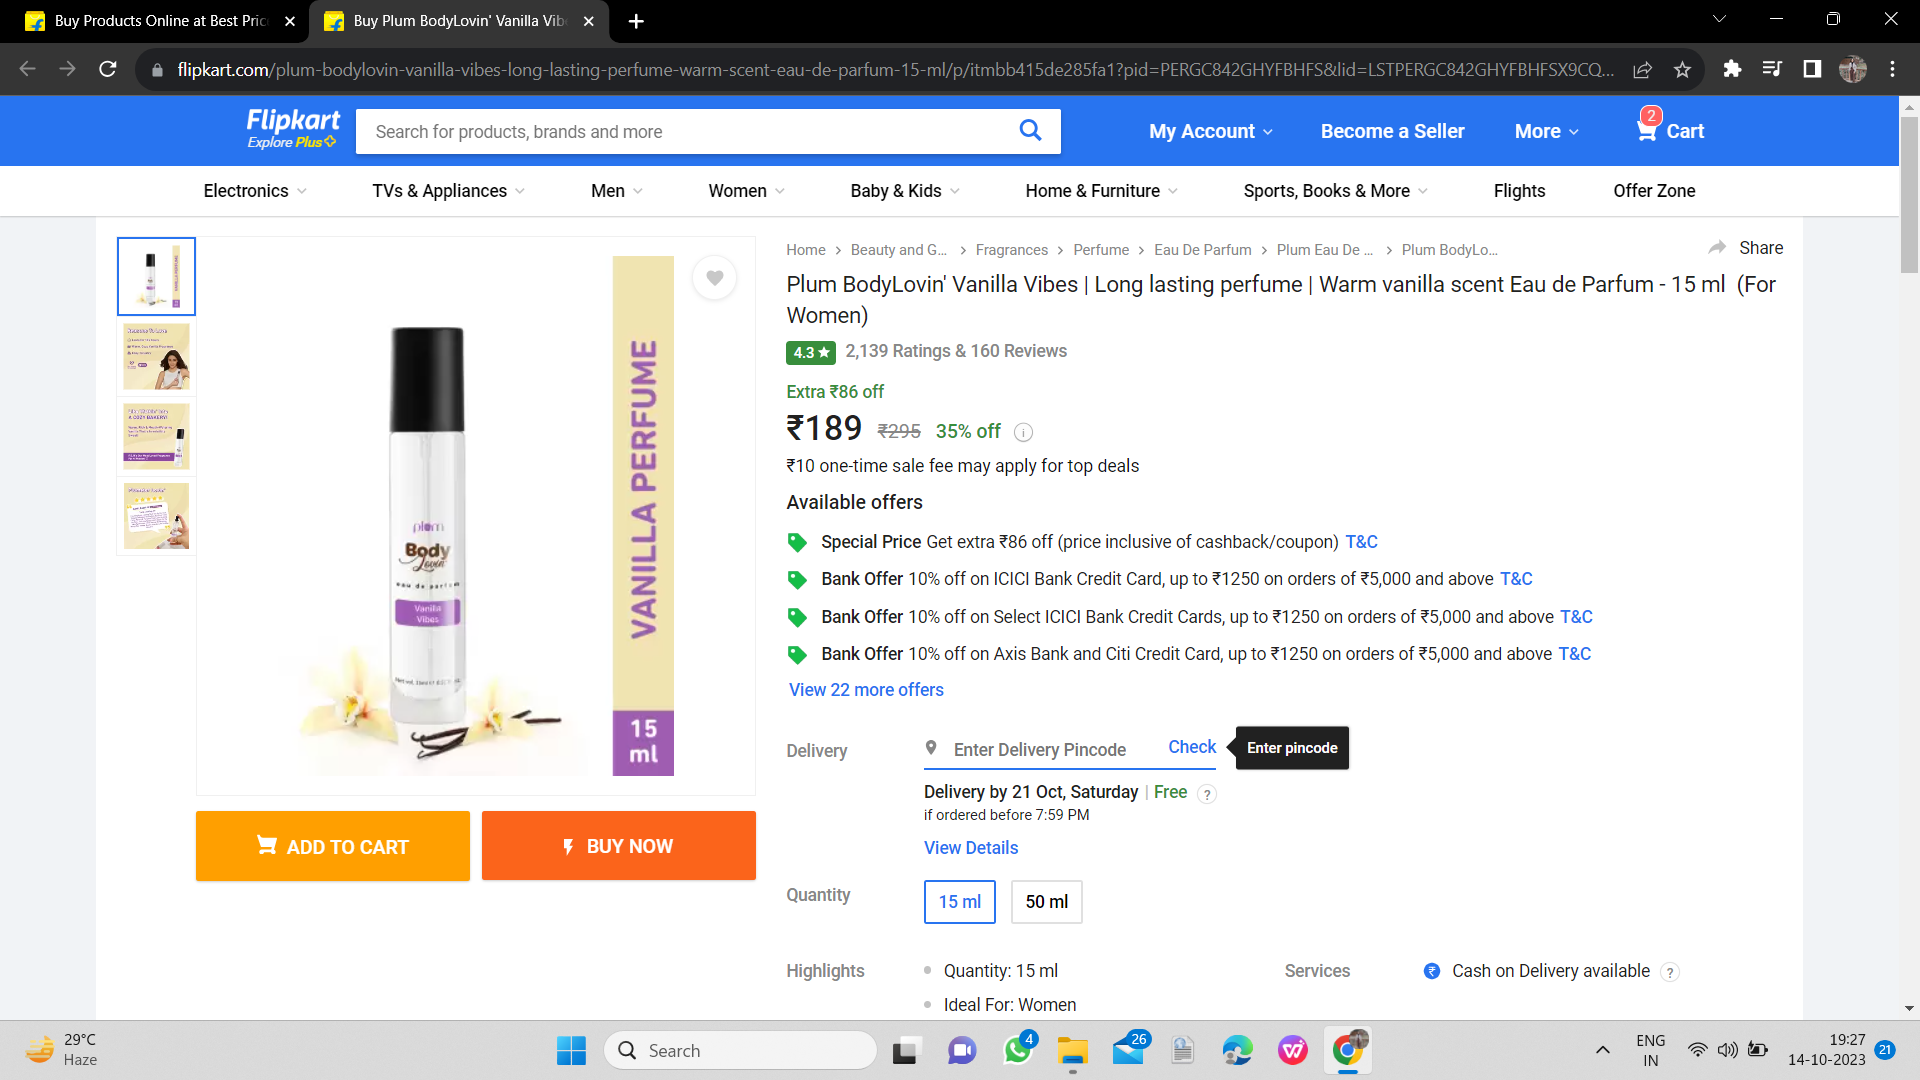Image: (231, 256, 754, 782)
Paragraph: (773, 524, 1621, 711), (766, 266, 1783, 331), (154, 807, 766, 876), (782, 378, 1137, 480), (1126, 96, 1720, 154), (882, 721, 1383, 775), (1273, 959, 1655, 989), (906, 873, 1100, 931), (913, 951, 1085, 1013), (765, 335, 1085, 368), (903, 779, 1141, 806), (775, 489, 930, 514), (766, 882, 878, 913), (775, 738, 852, 779), (783, 961, 878, 990)
